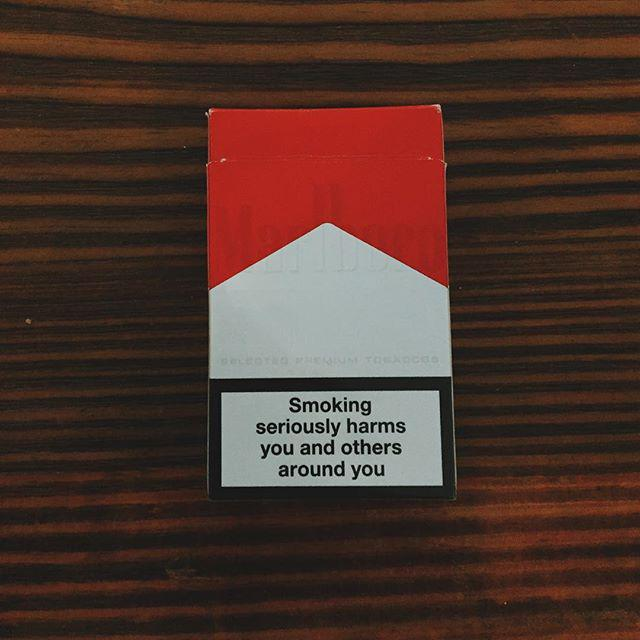marlboro_red: (210, 108, 453, 497)
